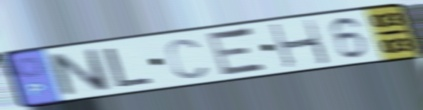6: (329, 16, 372, 60)
C: (164, 37, 209, 81)
E: (205, 25, 271, 78)
H: (267, 17, 333, 70)
L: (103, 46, 157, 90)
N: (43, 46, 115, 97)
